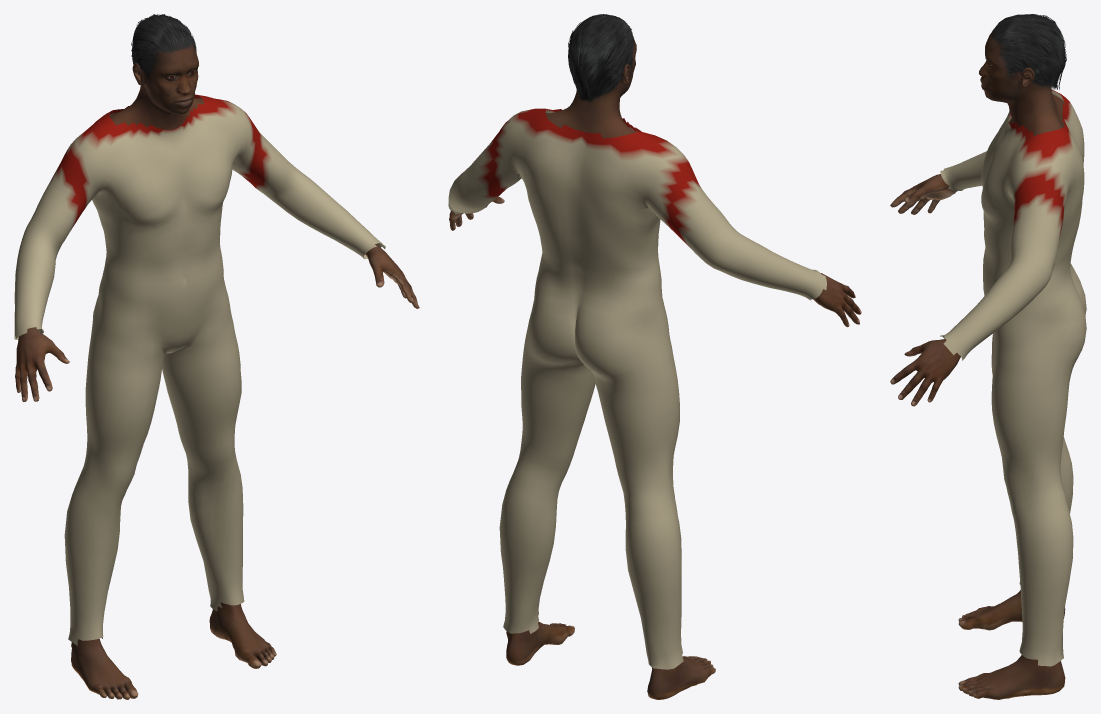
Rendered from crew_ALTAIR.glb.
The picture shows the model from 3 angles, left to right: view 1: azimuth 30°, elevation 25°; view 2: azimuth 150°, elevation 25°; view 3: azimuth 270°, elevation 25°; orthographic projection.
Visible parts, largest first — view 1: ALTAIR_uniform, ALTAIR_skin, ALTAIR_short04; view 2: ALTAIR_uniform, ALTAIR_skin, ALTAIR_short04; view 3: ALTAIR_uniform, ALTAIR_skin, ALTAIR_short04.
Part boxes in pixels (x1=…): ALTAIR_uniform: x1=14, y1=94, x2=385, y2=645; ALTAIR_skin: x1=15, y1=43, x2=419, y2=699; ALTAIR_short04: x1=131, y1=14, x2=196, y2=83; ALTAIR_uniform: x1=448, y1=108, x2=826, y2=669; ALTAIR_skin: x1=449, y1=35, x2=861, y2=699; ALTAIR_short04: x1=568, y1=14, x2=634, y2=102; ALTAIR_uniform: x1=940, y1=89, x2=1086, y2=666; ALTAIR_skin: x1=890, y1=33, x2=1065, y2=699; ALTAIR_short04: x1=991, y1=14, x2=1066, y2=89.
Size of the model in its own units: 1.22 by 1.9 by 0.5265.
Materials: 13 (12 with a texture image).
